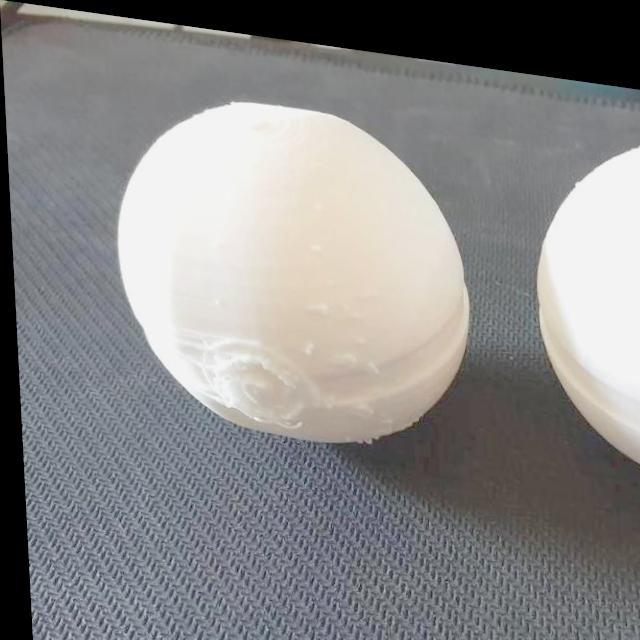zits: (335, 340, 358, 362), (348, 388, 368, 409), (296, 332, 316, 352), (312, 290, 327, 308), (304, 232, 318, 249), (237, 150, 254, 164), (350, 323, 362, 338), (318, 391, 331, 402), (209, 291, 219, 303)
